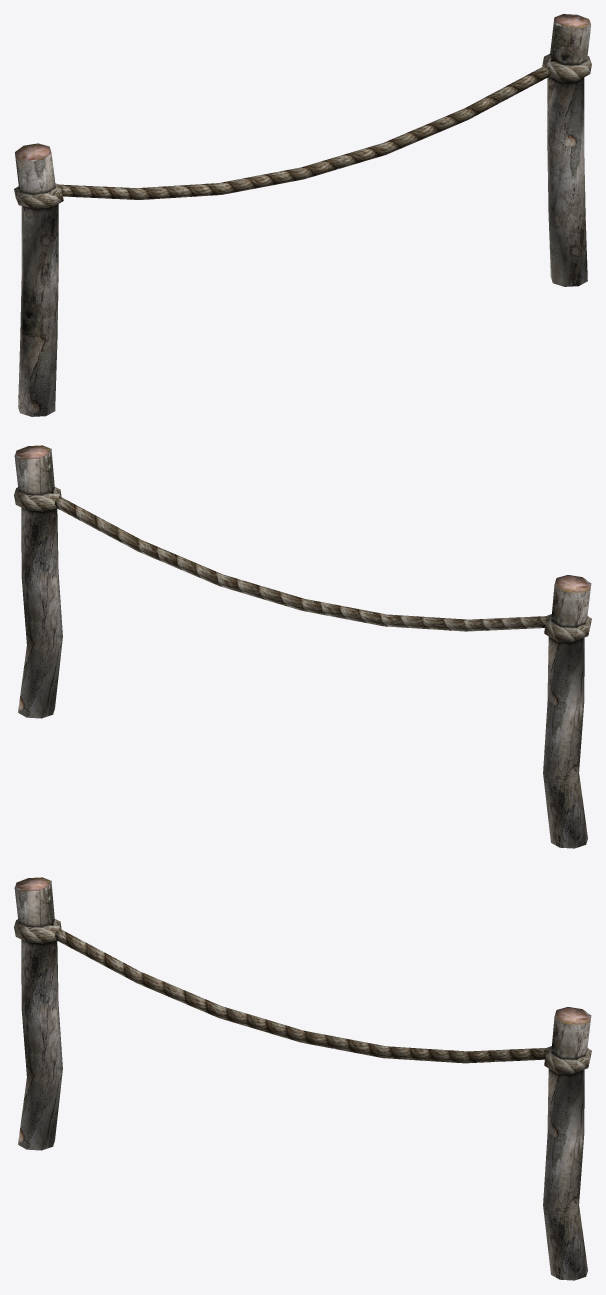
Rendered from RopeFence.fbx.
The picture shows the model from 3 angles, top to bottom: view 1: azimuth 30°, elevation 25°; view 2: azimuth 150°, elevation 25°; view 3: azimuth 330°, elevation 25°; orthographic projection.
Parts seen in each view (by area): view 1: RopeFence; view 2: RopeFence; view 3: RopeFence.
Part boxes in pixels (x1=…): RopeFence: x1=14, y1=14, x2=591, y2=416; RopeFence: x1=14, y1=445, x2=591, y2=848; RopeFence: x1=14, y1=877, x2=591, y2=1280.
Bounding box in the file's own units: 279 × 121 × 21.33.
